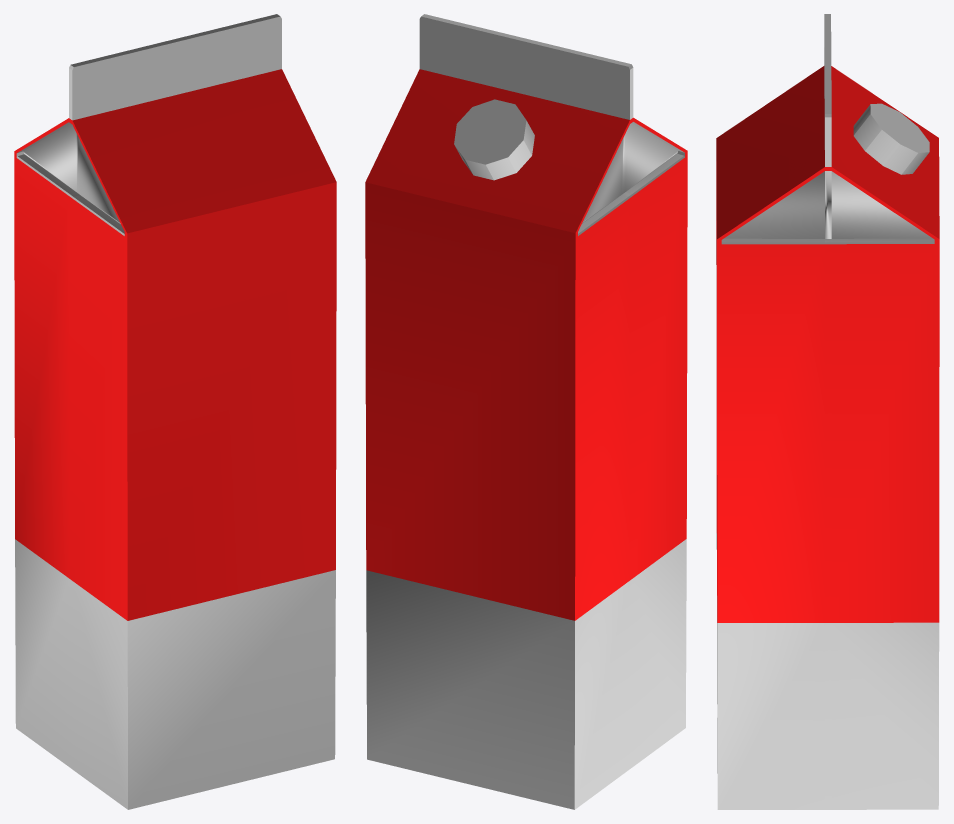
File: Condensed Milk.fbx
3 renders of one model, left to right at view 1: azimuth 30°, elevation 25°; view 2: azimuth 150°, elevation 25°; view 3: azimuth 270°, elevation 25°, orthographic.
Parts seen in each view (by area): view 1: Node 0; view 2: Node 0; view 3: Node 0.
Boxes of the visible parts, x1,y1,x2,y2 form: Node 0: (14,14,336,809); Node 0: (365,14,687,809); Node 0: (716,14,939,809).
Bounding box in the file's own units: 0.0653 × 0.2246 × 0.0703.
